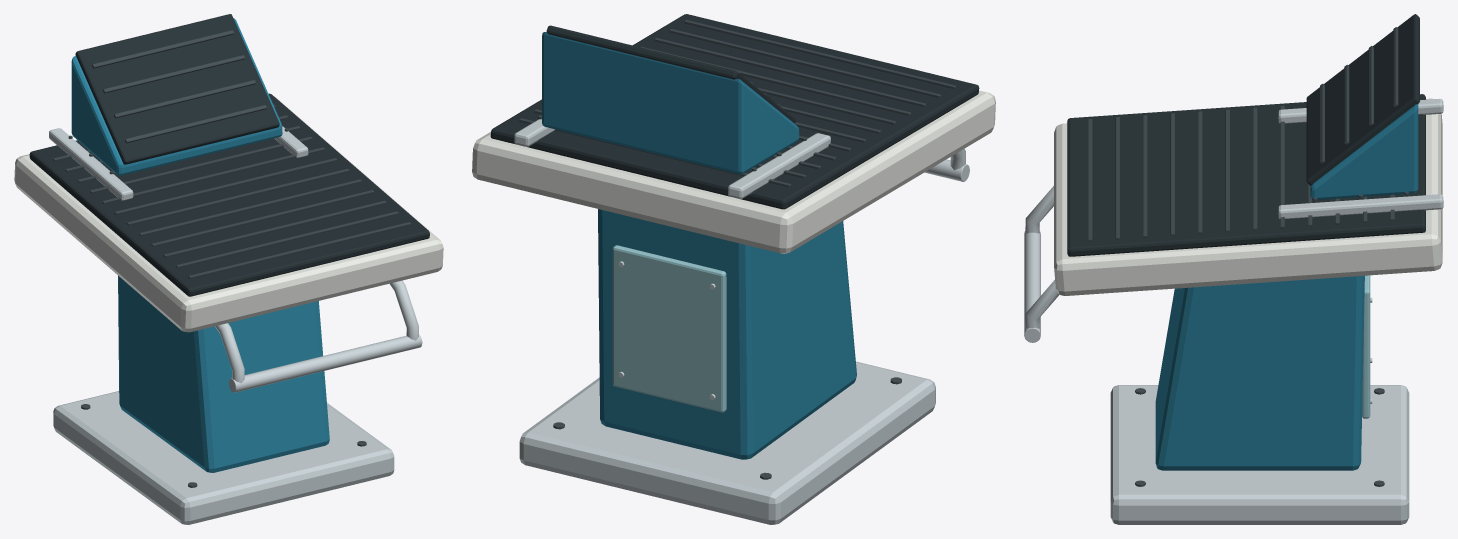
Rendered from city-swimming-start-block.glb.
3 views of the same model, side by side, from view 1: azimuth 30°, elevation 25°; view 2: azimuth 150°, elevation 25°; view 3: azimuth 270°, elevation 25° (orthographic). The views are drawn at different scales.
Visible parts, largest first — view 1: Assembly | Charcoal rubber and traction strips, Assembly | Pool blue powder coat, Assembly | Satin stainless steel, Assembly | Warm white molded polymer, Assembly | Graphite mechanical fittings; view 2: Assembly | Pool blue powder coat, Assembly | Satin stainless steel, Assembly | Charcoal rubber and traction strips, Assembly | Warm white molded polymer, Assembly | Pale blue walking surface, Assembly | Graphite mechanical fittings; view 3: Assembly | Pool blue powder coat, Assembly | Charcoal rubber and traction strips, Assembly | Satin stainless steel, Assembly | Warm white molded polymer, Assembly | Graphite mechanical fittings, Assembly | Pale blue walking surface.
Boxes of the visible parts, x1,y1,x2,y2 form: Assembly | Charcoal rubber and traction strips: (29, 14, 429, 296); Assembly | Pool blue powder coat: (71, 18, 329, 472); Assembly | Satin stainless steel: (49, 126, 422, 524); Assembly | Warm white molded polymer: (14, 97, 443, 332); Assembly | Graphite mechanical fittings: (53, 30, 410, 487); Assembly | Pool blue powder coat: (542, 32, 856, 459); Assembly | Satin stainless steel: (514, 119, 969, 524); Assembly | Charcoal rubber and traction strips: (490, 14, 979, 209); Assembly | Warm white molded polymer: (472, 90, 995, 253); Assembly | Pale blue walking surface: (612, 245, 726, 412); Assembly | Graphite mechanical fittings: (519, 20, 956, 479); Assembly | Pool blue powder coat: (1155, 104, 1418, 470); Assembly | Charcoal rubber and traction strips: (1067, 14, 1425, 256); Assembly | Satin stainless steel: (1024, 99, 1443, 524); Assembly | Warm white molded polymer: (1054, 98, 1442, 295); Assembly | Graphite mechanical fittings: (1088, 27, 1408, 486); Assembly | Pale blue walking surface: (1362, 275, 1370, 418).
Size of the model in its own units: 0.735 by 0.9957 by 0.913.
